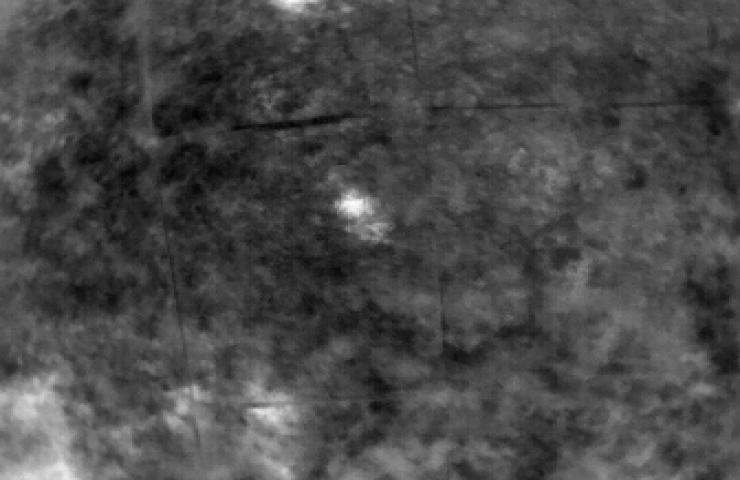landmines: (336, 186, 380, 223)
